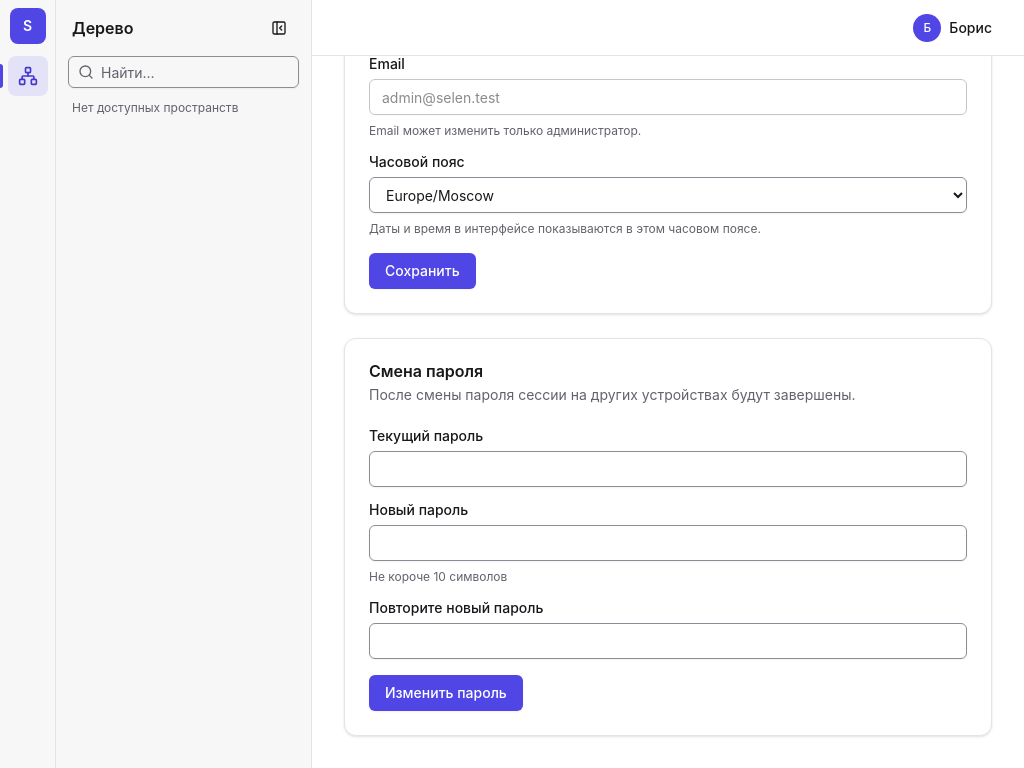
it: Профиль › показывает ошибку, если текущий пароль неверный
(page scrolled)
In the password field labelled "Текущий пароль": (668, 469) [369,451,967,487], type "wrong-password"
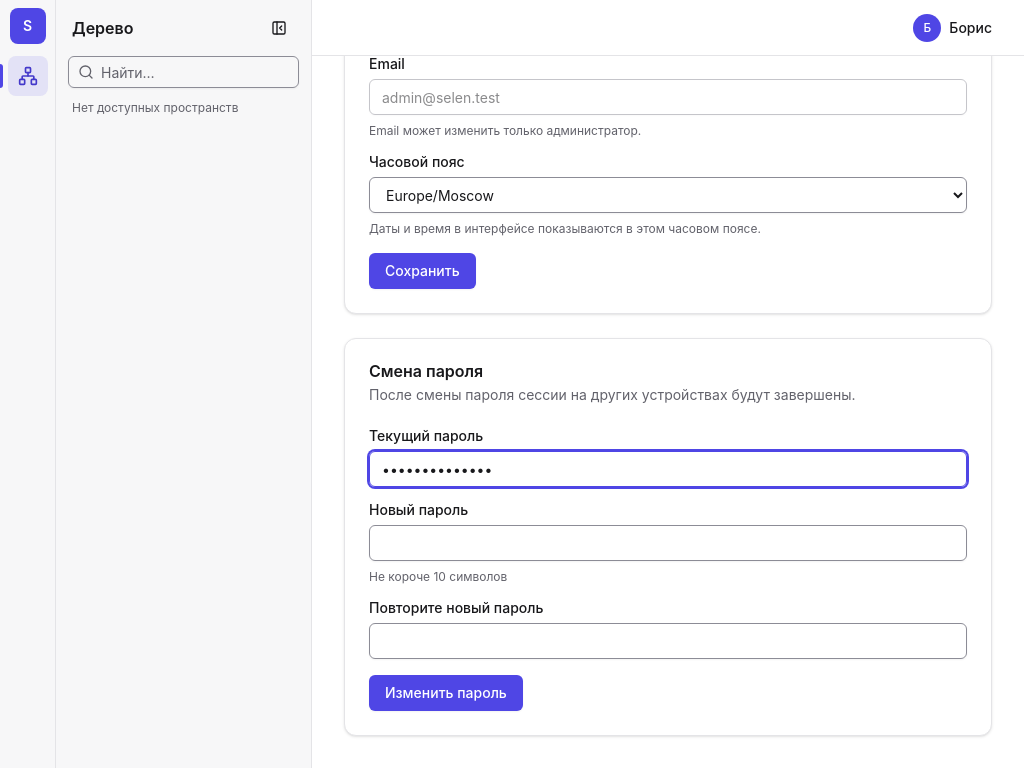
In the password field labelled "Новый пароль": (668, 543) [369,525,967,561], type "new-password-1"
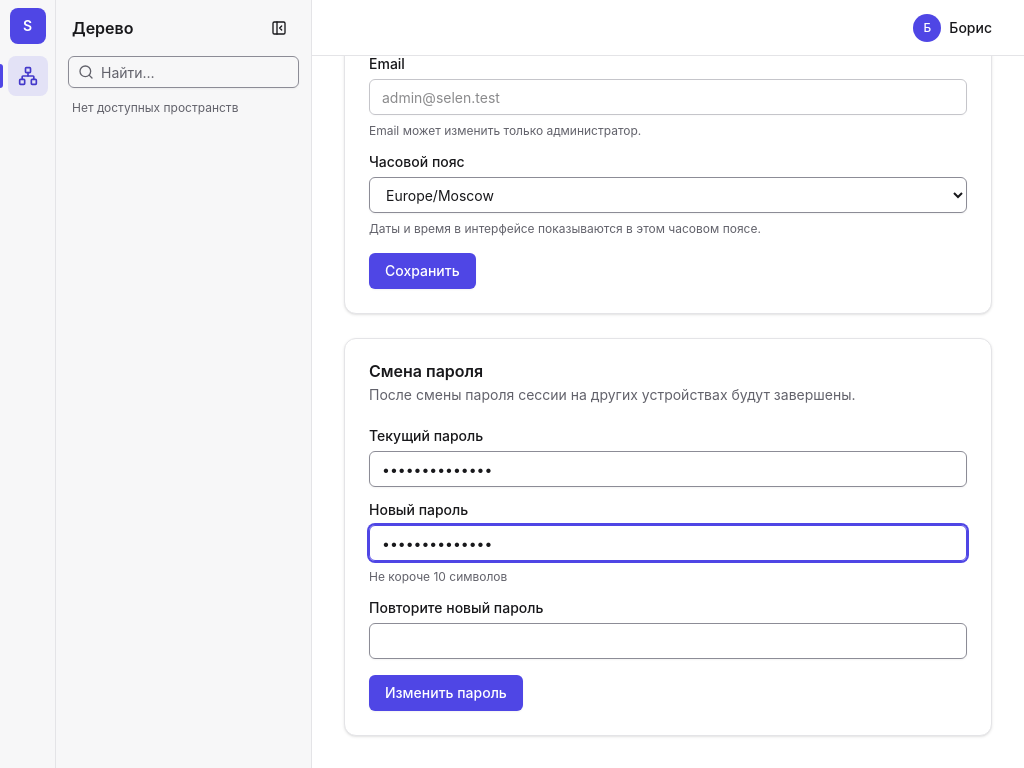
In the password field labelled "Повторите новый пароль": (668, 641) [369,623,967,659], type "new-password-1"
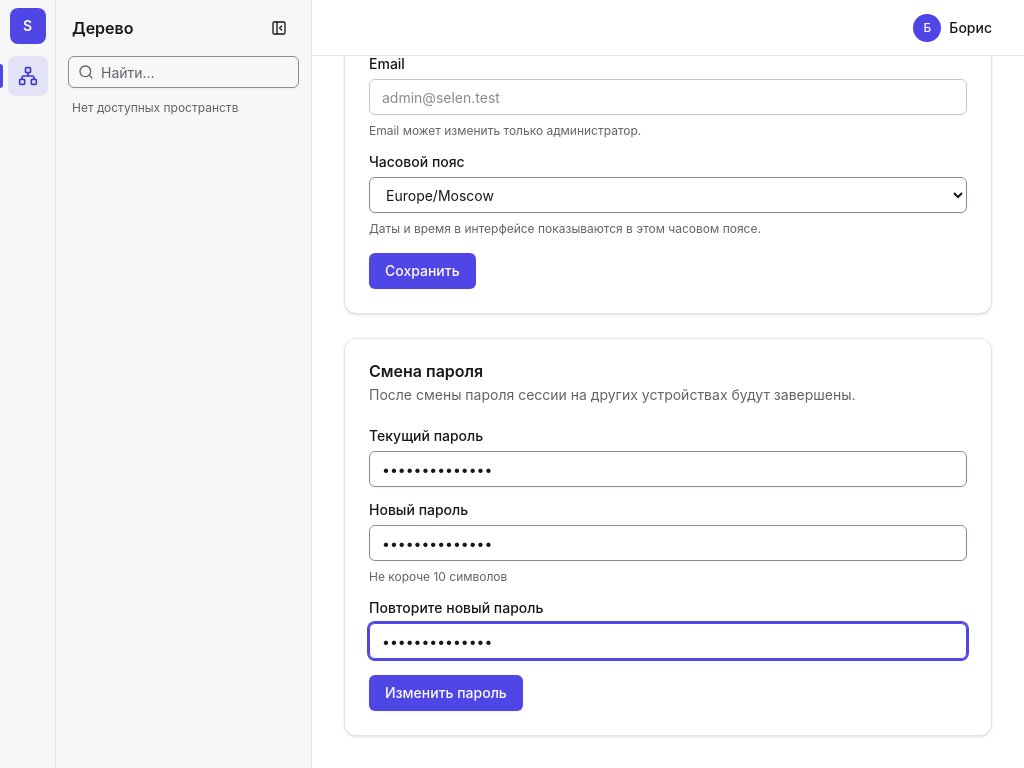
Click the button "Изменить пароль": (446, 693) [369,675,523,711]
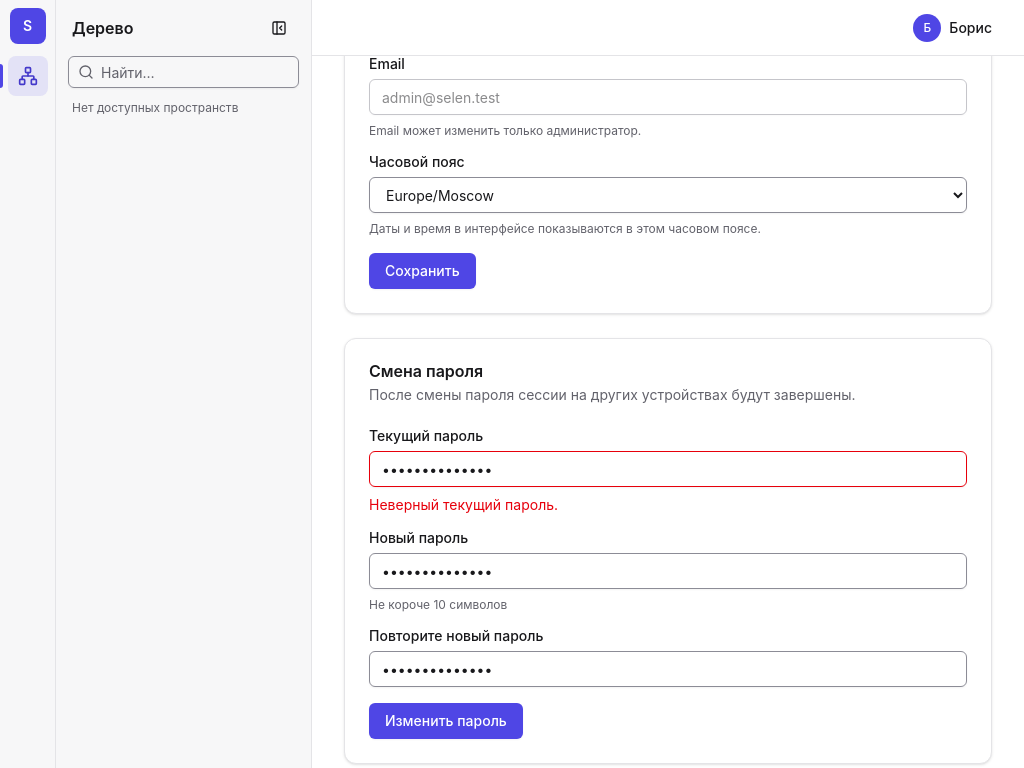
Result: the text "Неверный текущий пароль." is shown at [369,496,558,513]
